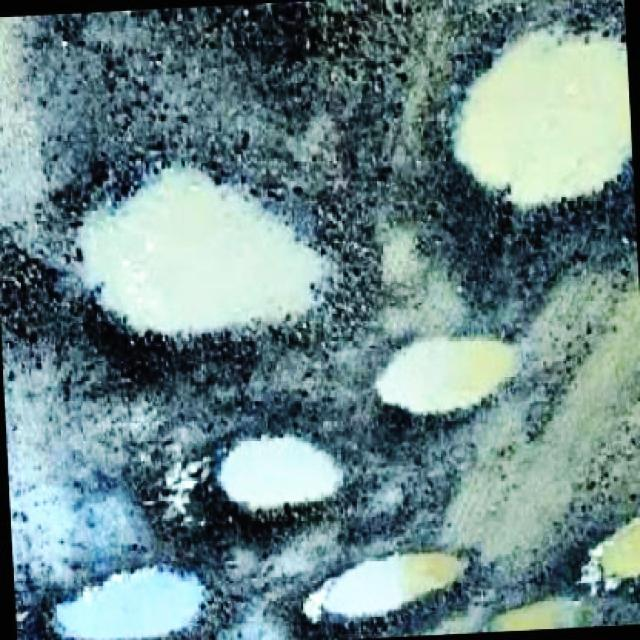pothole: (34, 151, 395, 391), (434, 9, 640, 271), (143, 414, 379, 555), (282, 535, 503, 640), (475, 503, 640, 640), (371, 314, 552, 428), (41, 547, 256, 640)
